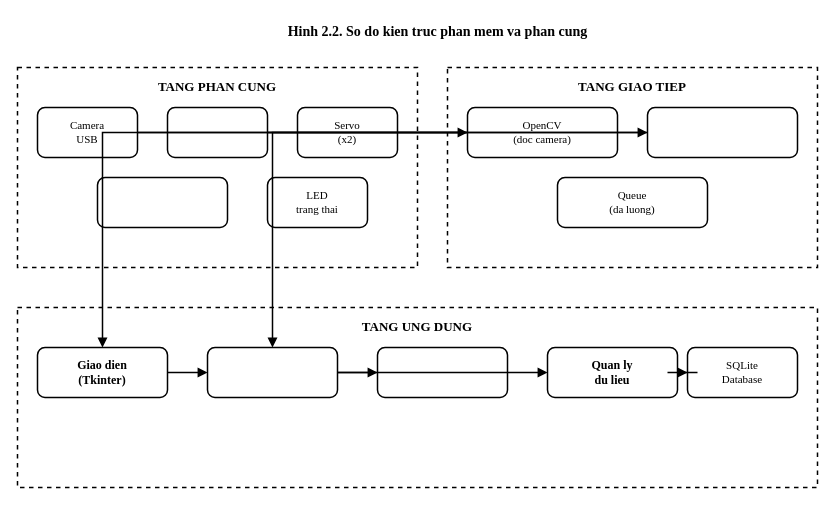
The diagram is 836 pixels wide and 505 high, and some of its shapes have lost their labels. The shapes that lost their labels are listed below. From the top down, each one's centre as x and y in pixels, then its label:
point (217, 132): Arduino Uno
point (722, 132): pySerial (giao tiep Arduino)
point (162, 202): Cam bien hong ngoai (x2)
point (272, 372): Dieu khien he thong
point (442, 372): Nhan dien bien so (AI)
